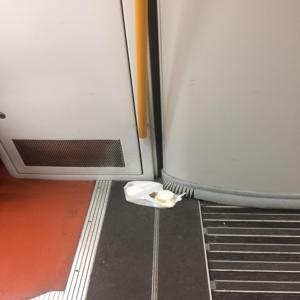plastic: (122, 176, 158, 211), (153, 192, 186, 214), (157, 188, 175, 200)
